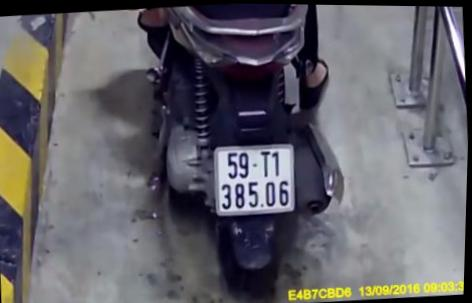LP: (211, 139, 299, 218)
